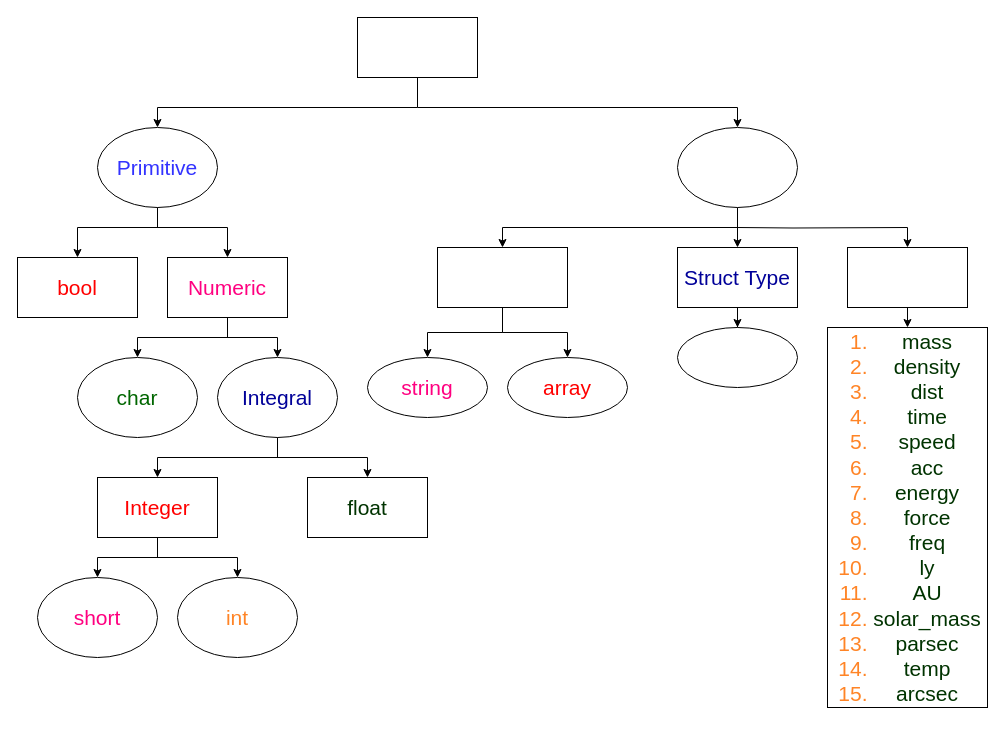
This 1005x745 diagram has some shape labels left out. Here are the shapes that lost their labels. From the top down, the box of each, then its label:
(356, 16, 478, 78): Data types
(676, 126, 798, 208): Non-Primitive
(436, 246, 568, 308): Combination
(846, 246, 968, 308): New ones
(676, 326, 798, 388): astrobject
